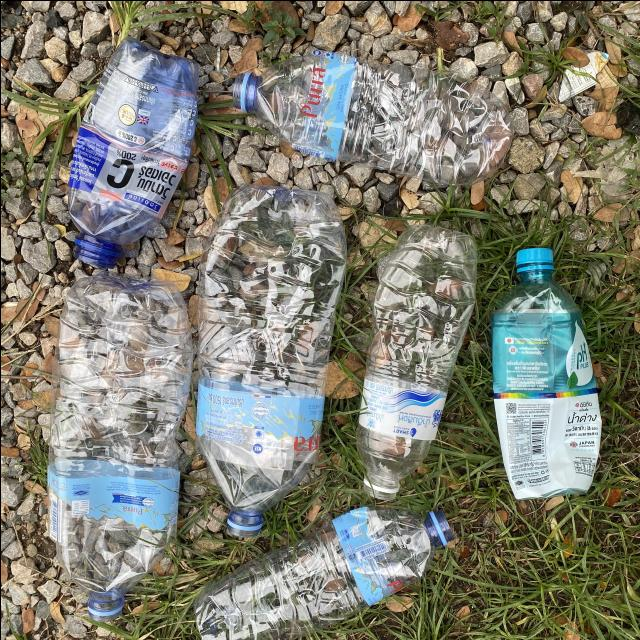plastik: (195, 183, 345, 535), (47, 271, 192, 621), (232, 49, 512, 183), (194, 506, 453, 640), (355, 223, 476, 499), (68, 37, 197, 267), (491, 247, 600, 499)
